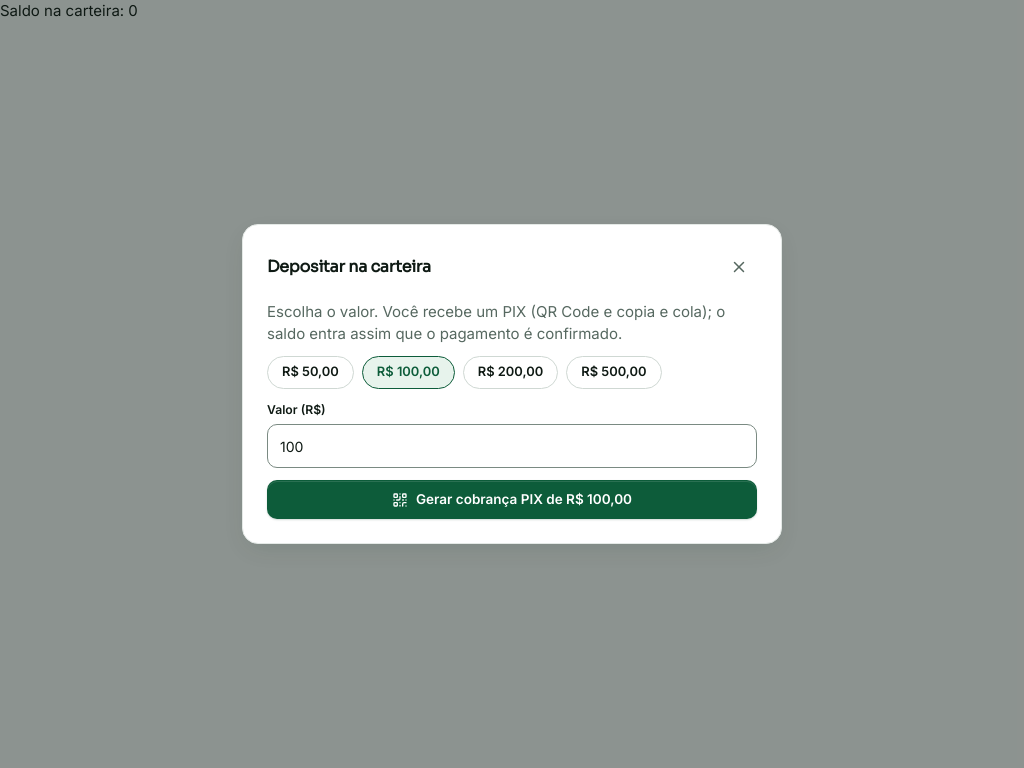
Test: DepositModal: escolher o valor › falha sem mensagem vira "Erro ao gerar a cobrança"
The width and height of the screenshot is (1024, 768).
Click the button "Gerar cobrança PIX de R$ 100,00" at (512, 500), box [267,480,757,519]
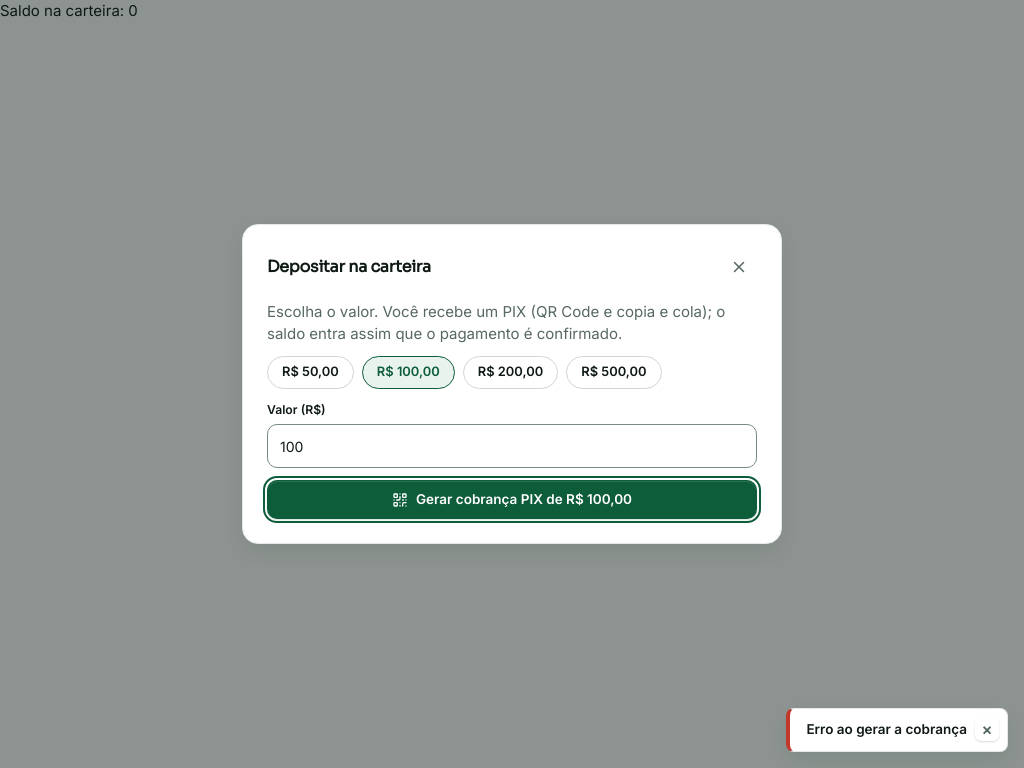
Expected: the text "Erro ao gerar a cobrança" is shown, [806,720,967,740]
